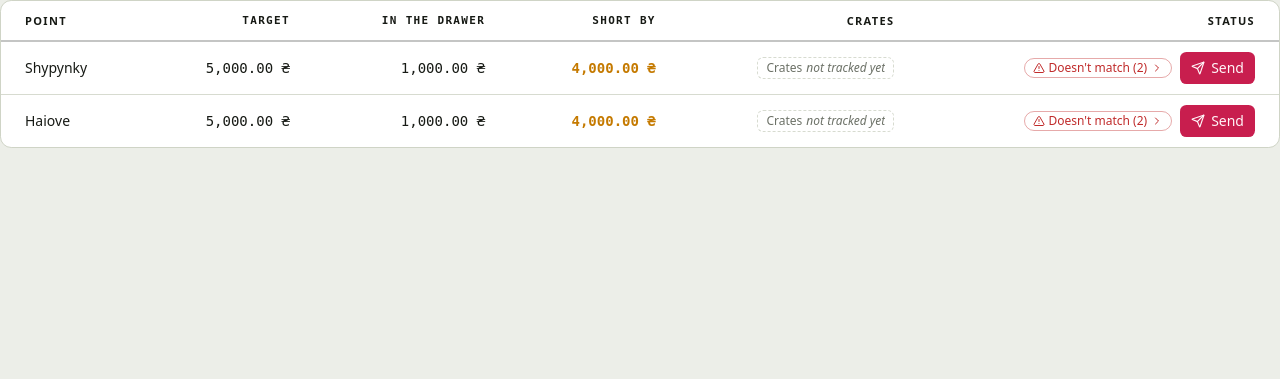
Scenario: PointDebtTable — a point with several open disputes (#76) › keeps only one point open at a time
The image size is (1280, 379).
Step 1. Click the button "Doesn't match (2)" in the row of "Shypynky" → (1098, 68), box x1=1024 y1=58 x2=1172 y2=78
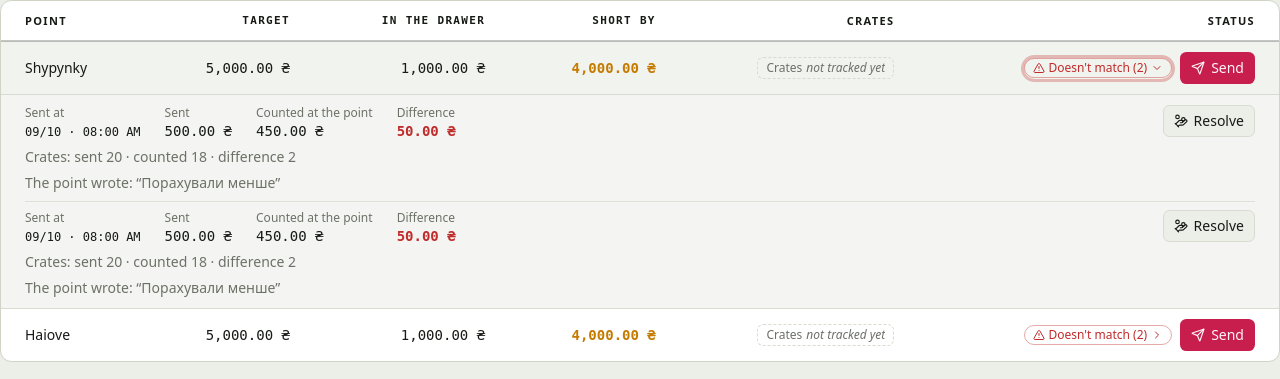
Step 2. Click the button "Doesn't match (2)" in the row of "Haiove" → (1098, 335), box x1=1024 y1=324 x2=1172 y2=346
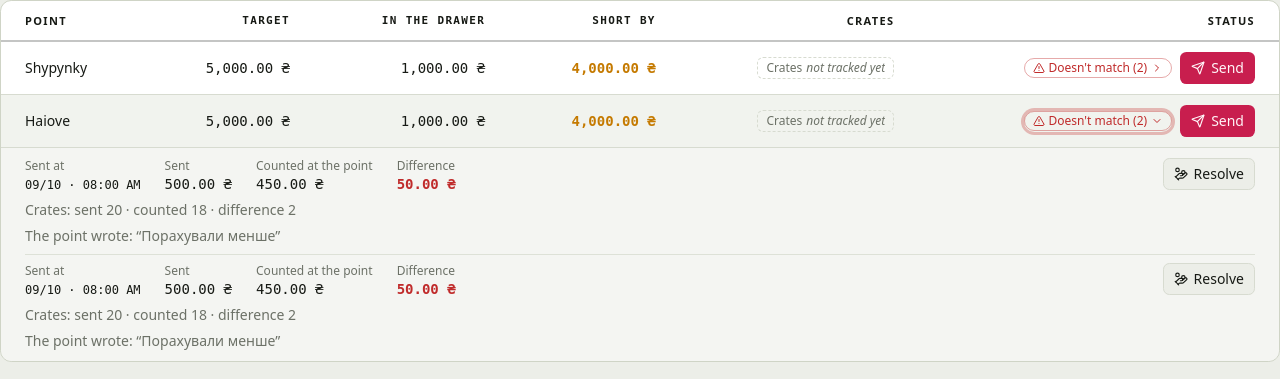
Check: the number of lists is 1, box x1=25 y1=158 x2=1255 y2=351
Check: the button "Doesn't match (2)" in the row of "Shypynky" is collapsed, box x1=1024 y1=58 x2=1172 y2=78
Check: the button "Doesn't match (2)" in the row of "Haiove" is expanded, box x1=1024 y1=110 x2=1172 y2=132
